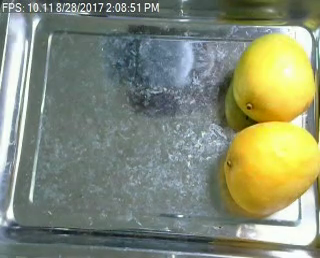Mango: (224, 121, 320, 217), (232, 35, 320, 122)
